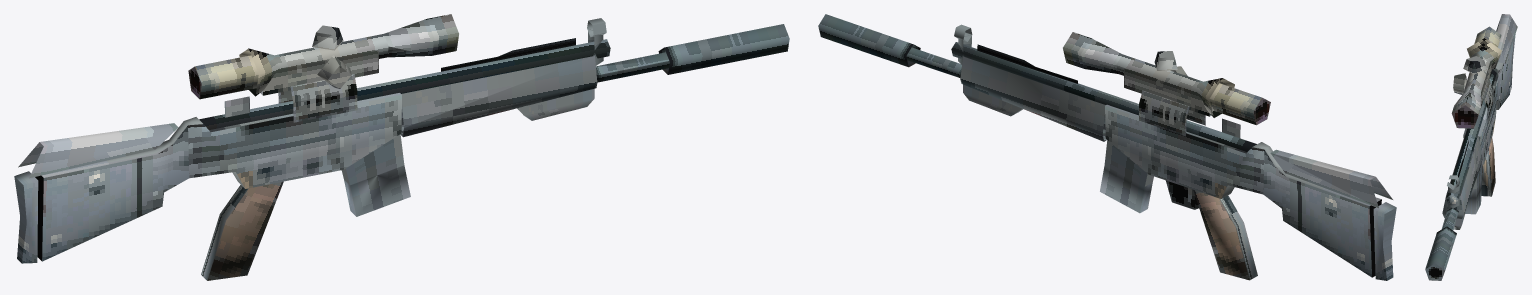
The model's file is Laser.fbx.
The picture shows the model from 3 angles, left to right: view 1: azimuth 30°, elevation 25°; view 2: azimuth 150°, elevation 25°; view 3: azimuth 270°, elevation 25°; orthographic projection. The views are drawn at different scales.
Visible parts, largest first — view 1: laser; view 2: laser; view 3: laser.
Boxes of the visible parts, bbox=[...] form: laser: bbox=[14, 14, 789, 280]; laser: bbox=[818, 14, 1396, 280]; laser: bbox=[1425, 14, 1517, 280].
Size of the model in its own units: 108 by 33.13 by 17.04.
1 material, 1 textured.
